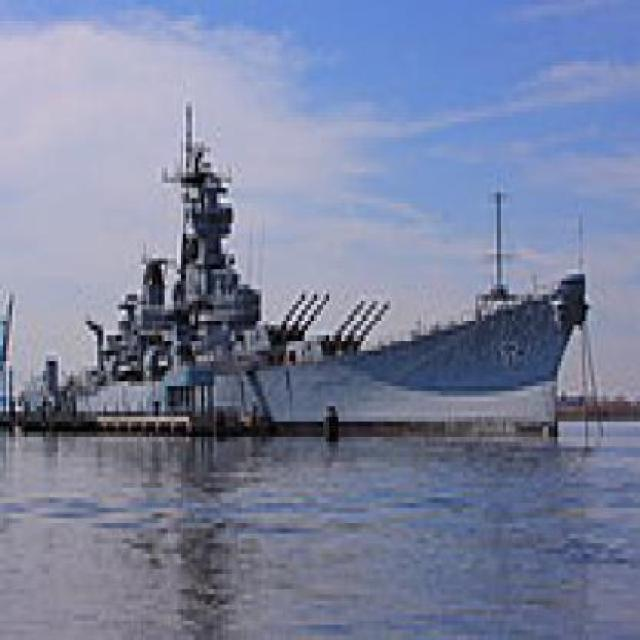warship2: (37, 82, 593, 459)
